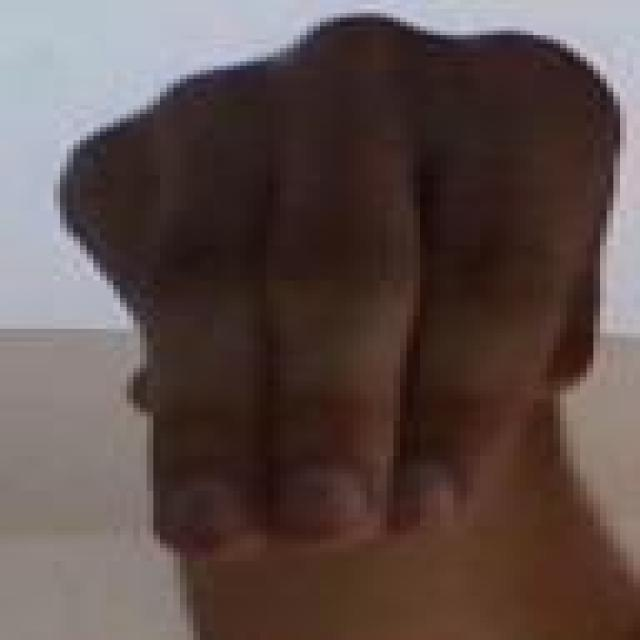M: (10, 3, 640, 640)
